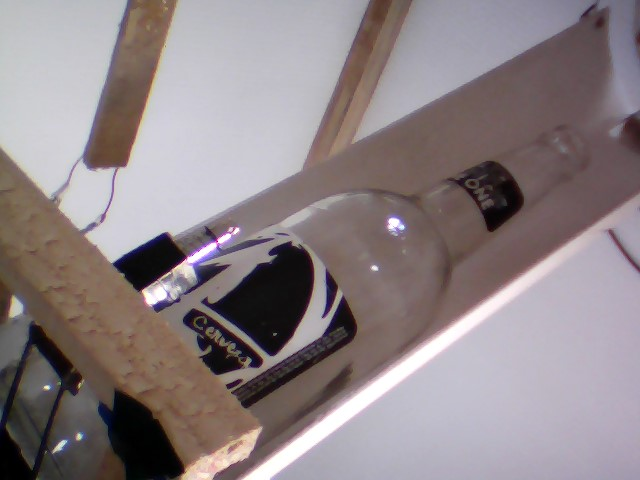vidrio: (206, 116, 600, 441)
